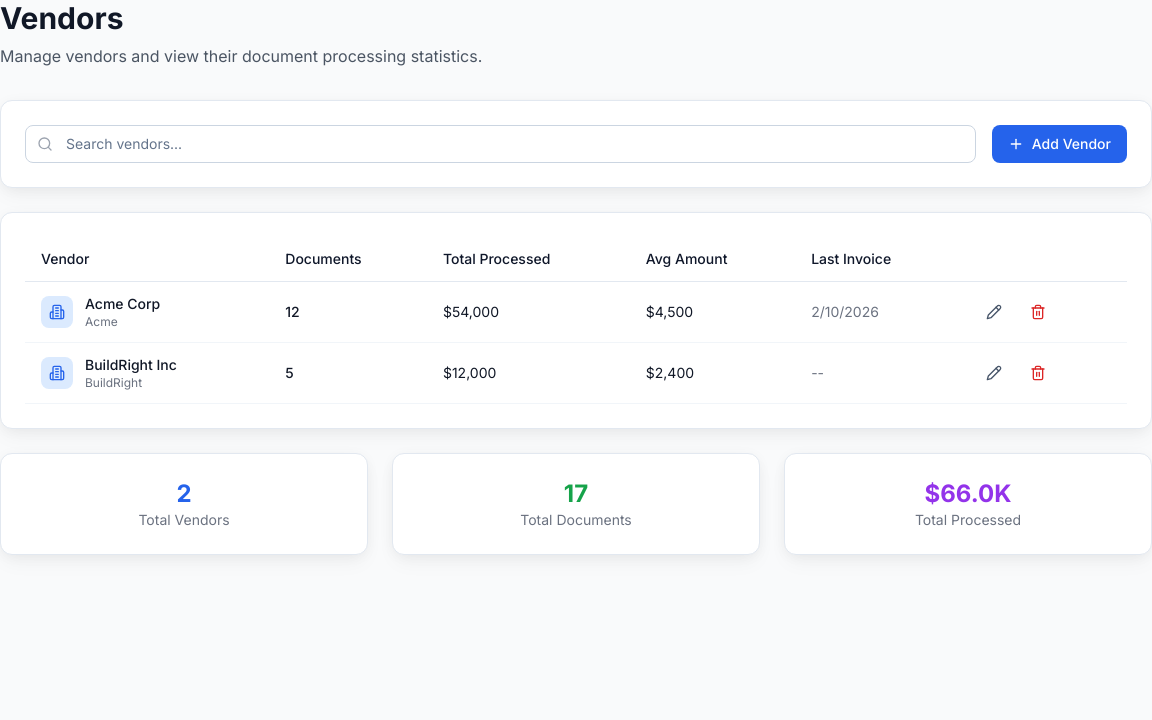
Test: Vendors › opens edit vendor modal when clicking edit button
Click the button named "Edit ". click: x=994, y=312
box: [974,298,1014,326]
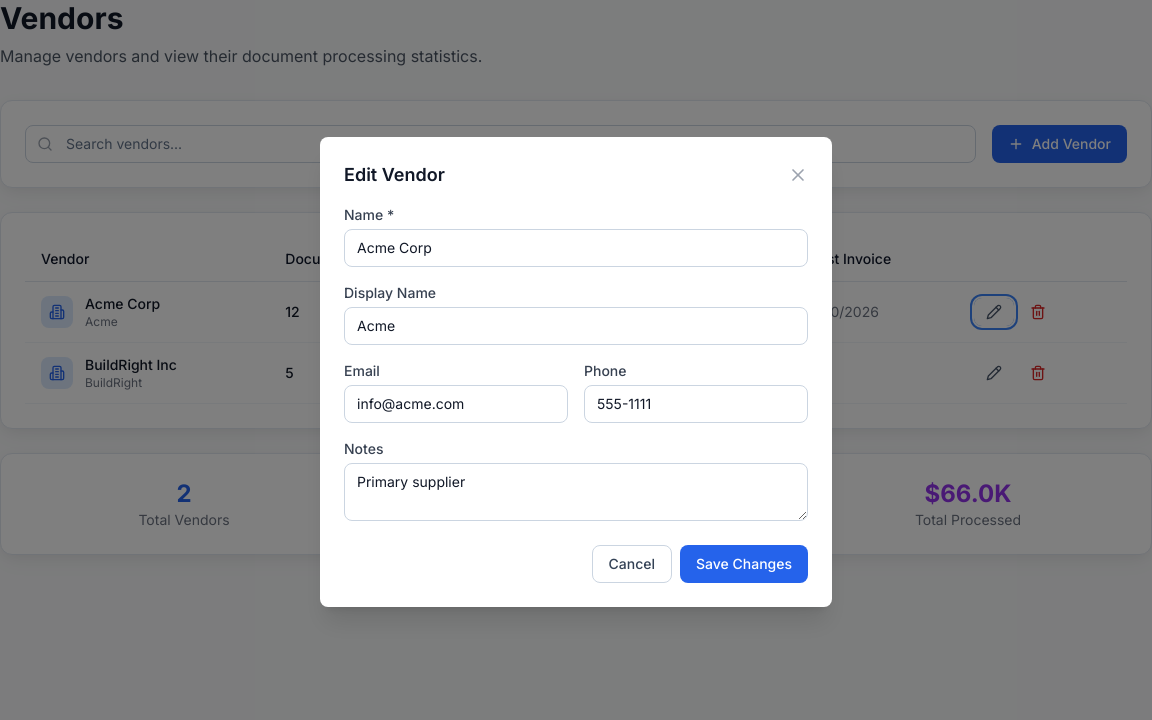
Now the heading "Edit Vendor" is shown, box [344,161,445,189]
Now the field showing "Acme Corp" is shown, box [344,229,808,267]
